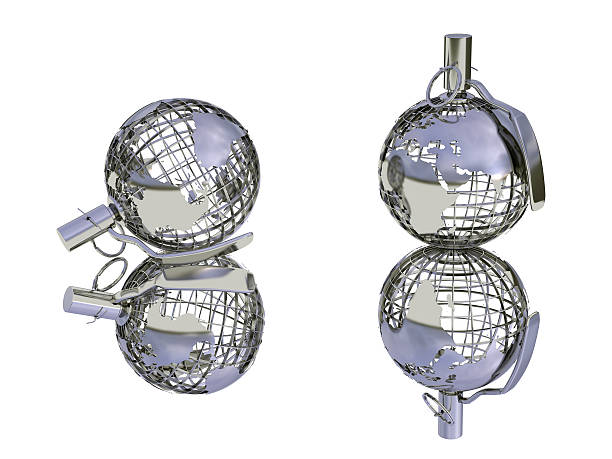e1: (366, 28, 547, 244), (65, 98, 265, 261), (378, 247, 541, 442), (63, 266, 264, 392)
